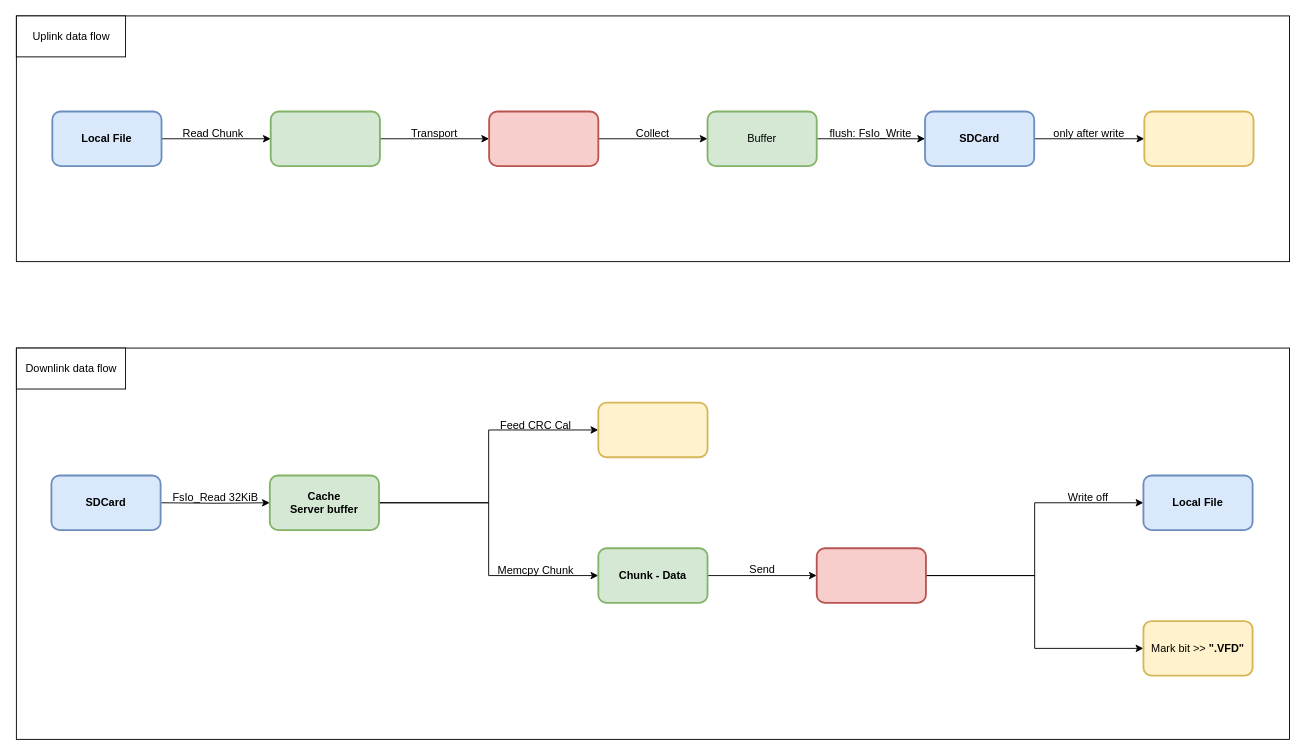
Image size: 1305x755. Some labels were removed from this diagram. The shapes that lost their labels are listed below. From the top down, each one's box as (x1, y1, x2, y2) in pixels, then its label:
(269, 110, 380, 167): DATA
(488, 110, 599, 167): Server: "on_data"
(1143, 110, 1254, 167): Mark bit >> ".VFM"
(597, 401, 708, 458): CRC Job
(815, 547, 926, 603): Client Decode
